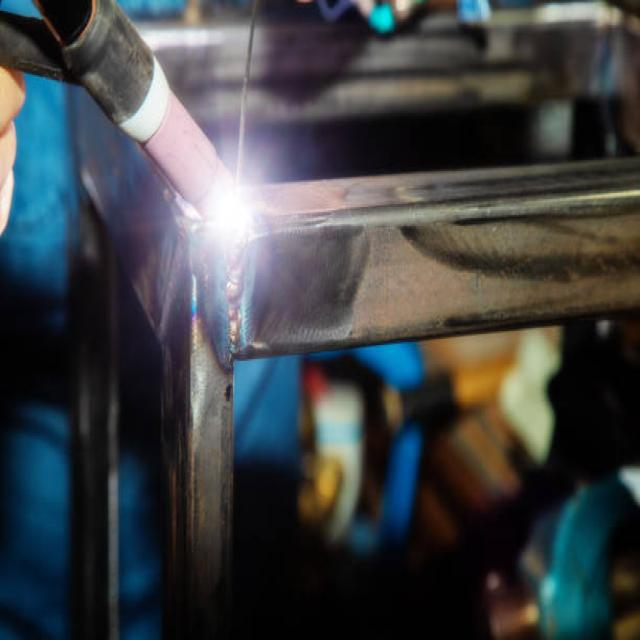welding: (215, 186, 251, 237)
